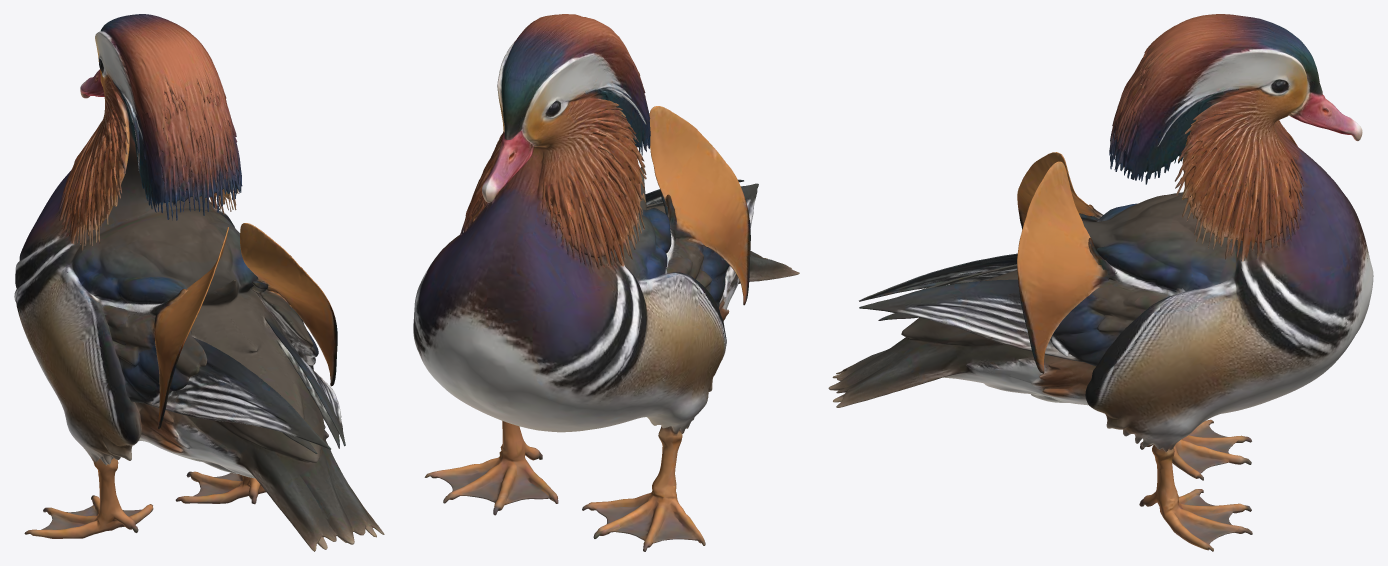
Rendered from oy_duck.glb.
3 views of the same model, side by side, from view 1: azimuth 30°, elevation 25°; view 2: azimuth 150°, elevation 25°; view 3: azimuth 270°, elevation 25° (orthographic). The views are drawn at different scales.
Parts seen in each view (by area): view 1: tripo_node_ddad76cb-b018-49e6-ae45-b42d00993633; view 2: tripo_node_ddad76cb-b018-49e6-ae45-b42d00993633; view 3: tripo_node_ddad76cb-b018-49e6-ae45-b42d00993633.
Boxes of the visible parts, x1,y1,x2,y2 form: tripo_node_ddad76cb-b018-49e6-ae45-b42d00993633: (14, 14, 384, 551); tripo_node_ddad76cb-b018-49e6-ae45-b42d00993633: (413, 14, 799, 551); tripo_node_ddad76cb-b018-49e6-ae45-b42d00993633: (828, 14, 1373, 551).
Size of the model in its own units: 0.5634 by 0.9446 by 1.
Materials: 1 (1 with a texture image).
